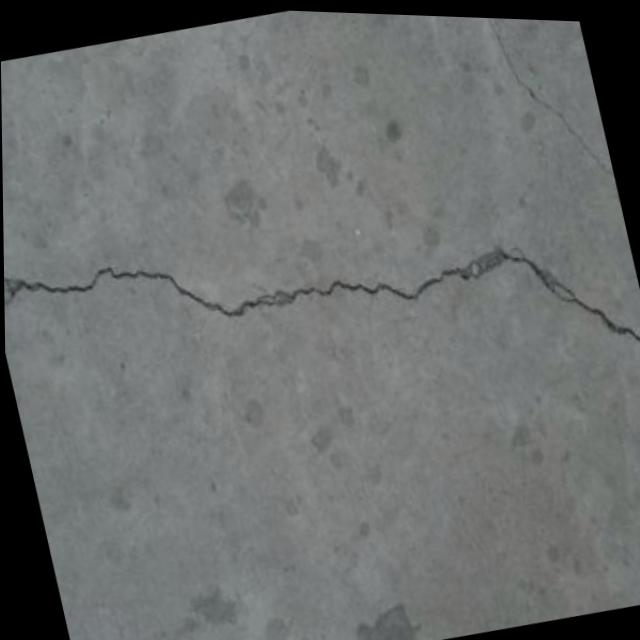Crack: (1, 122, 640, 503), (464, 14, 613, 195)
